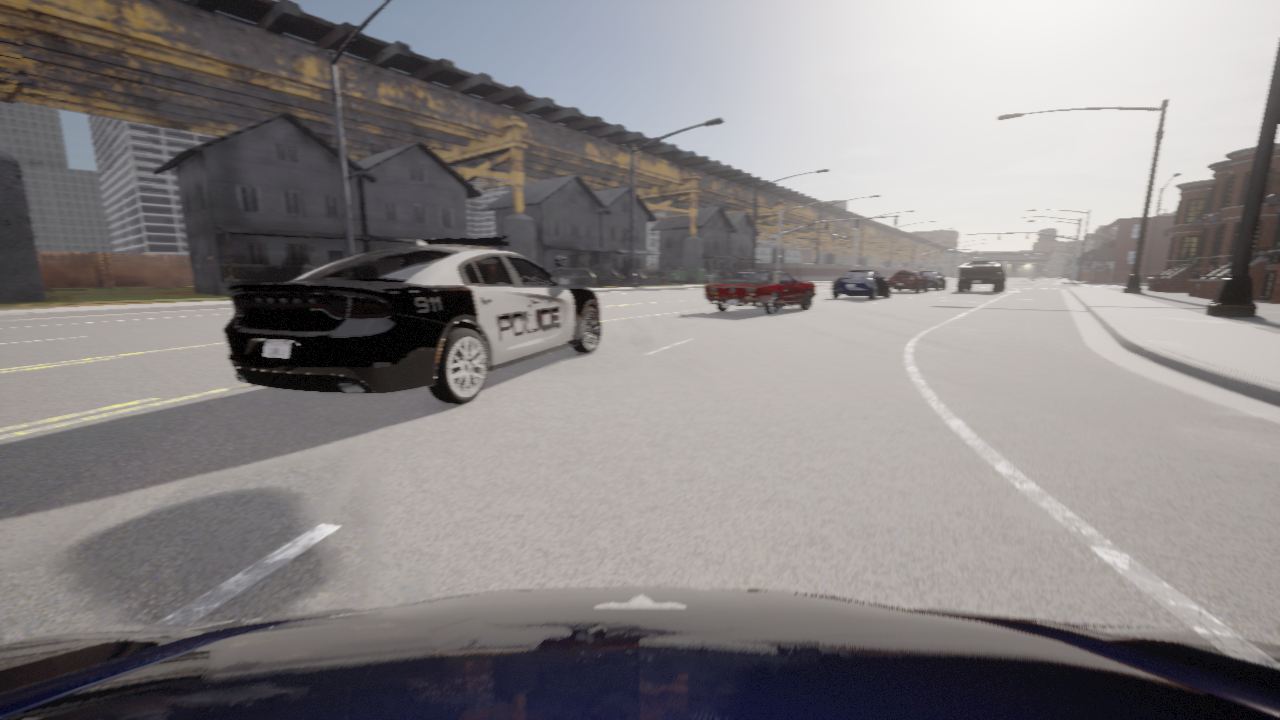cyclist: (0, 588, 1279, 719), (223, 235, 600, 404), (704, 270, 814, 314), (831, 270, 891, 299), (956, 261, 1006, 292), (888, 270, 930, 293), (921, 272, 946, 290)
